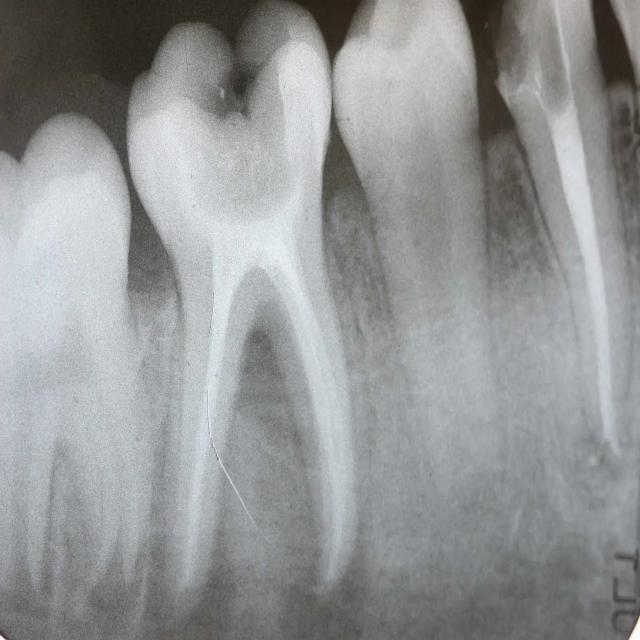Caries: (128, 6, 330, 580)
